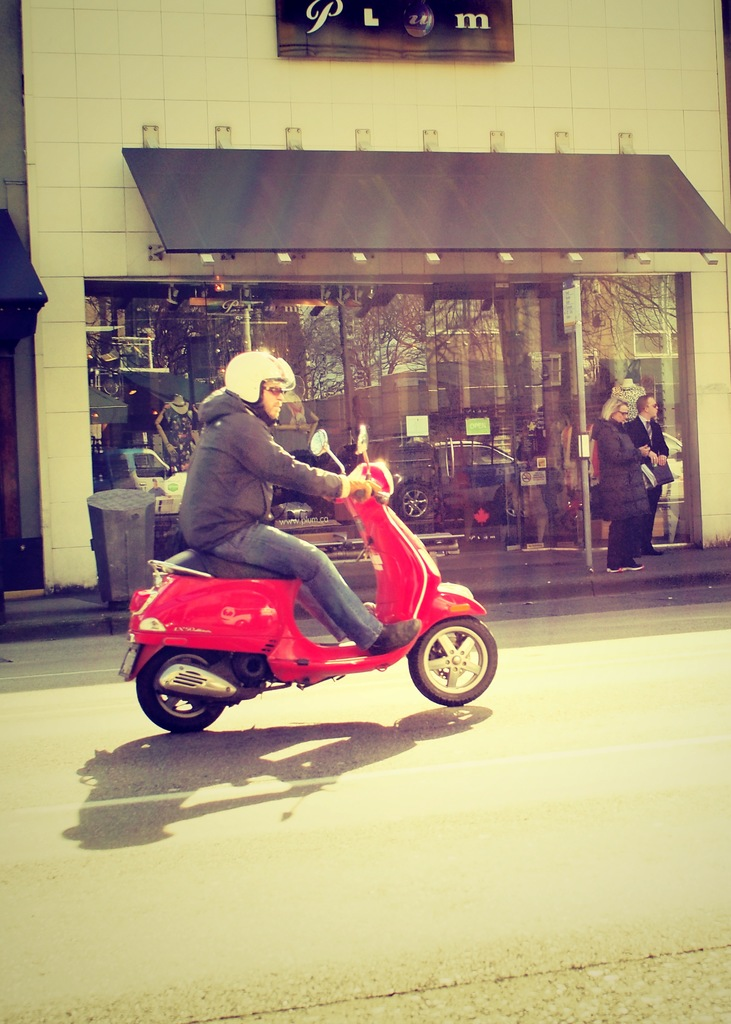cars: (329, 432, 525, 521)
